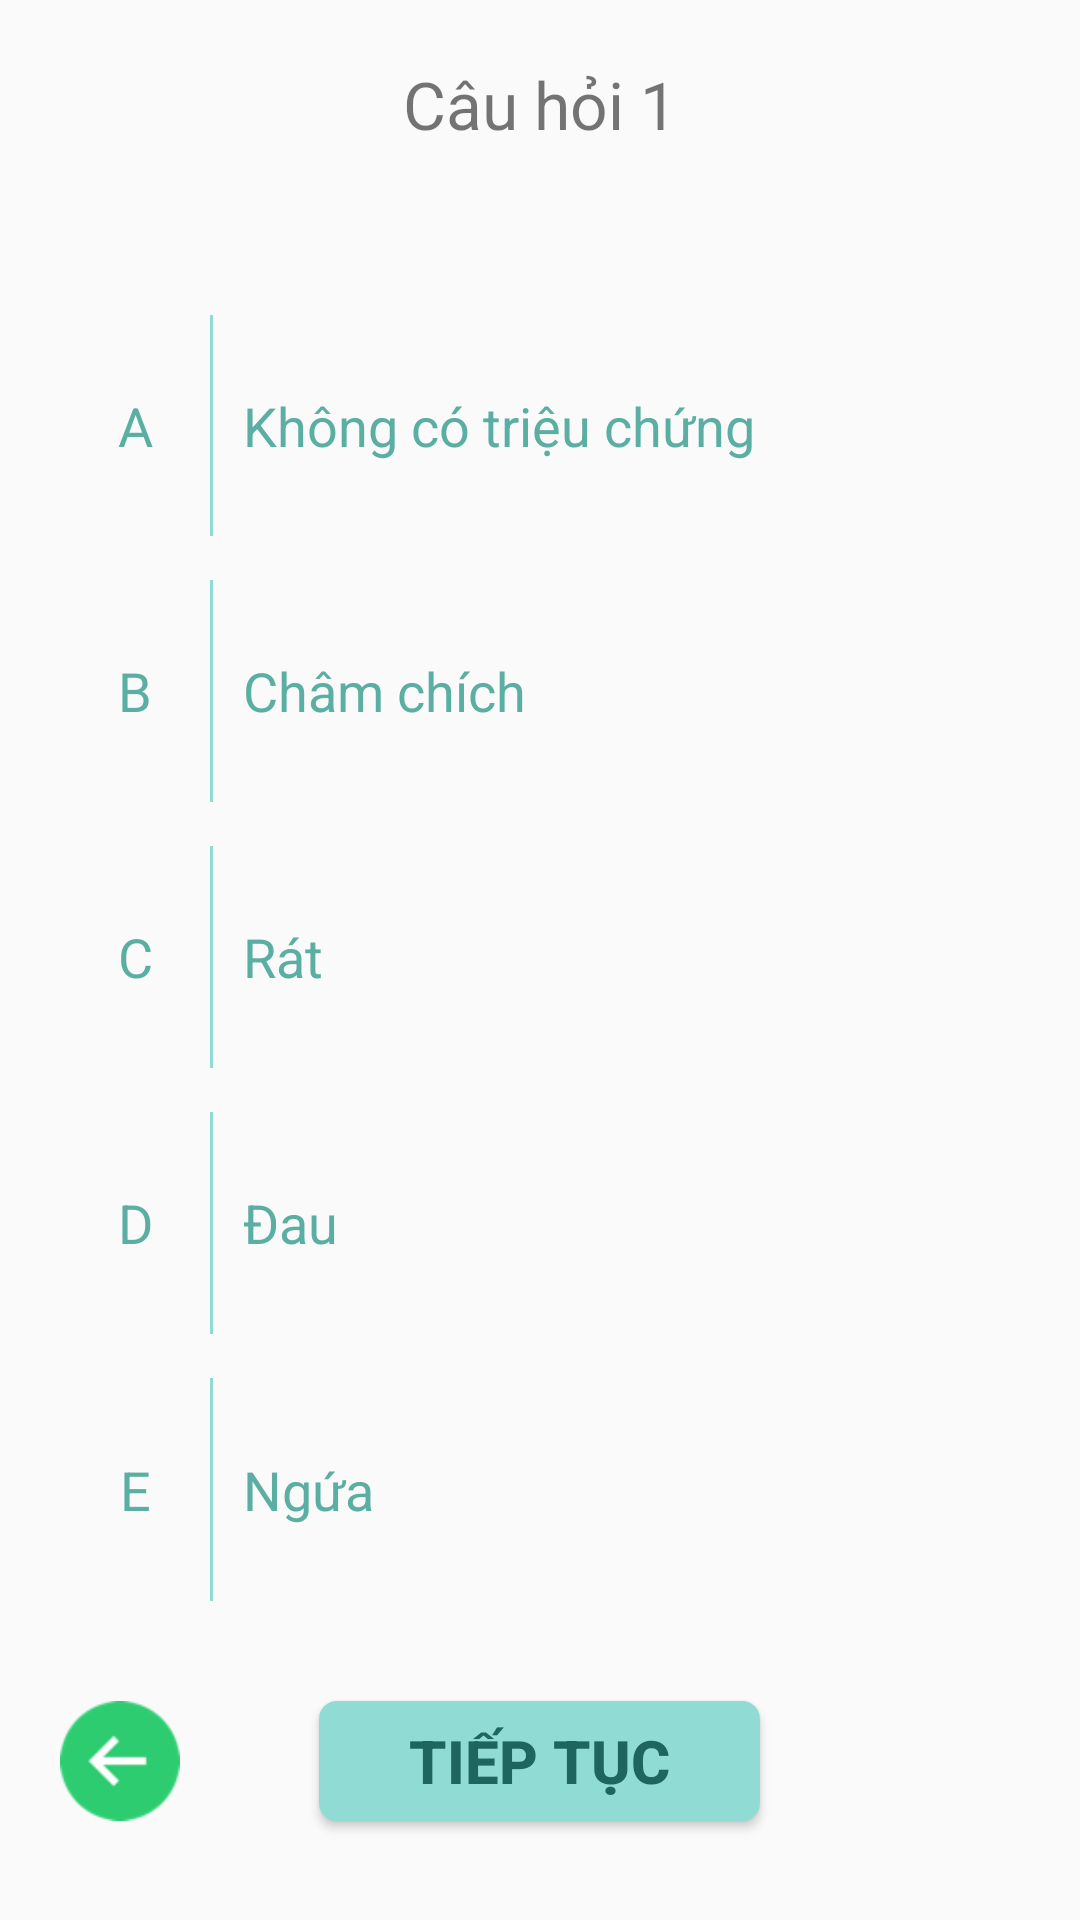

Screen size 1080×1920. Icon name, then its center in pixels as [x,y]:
back: [120,1761]
